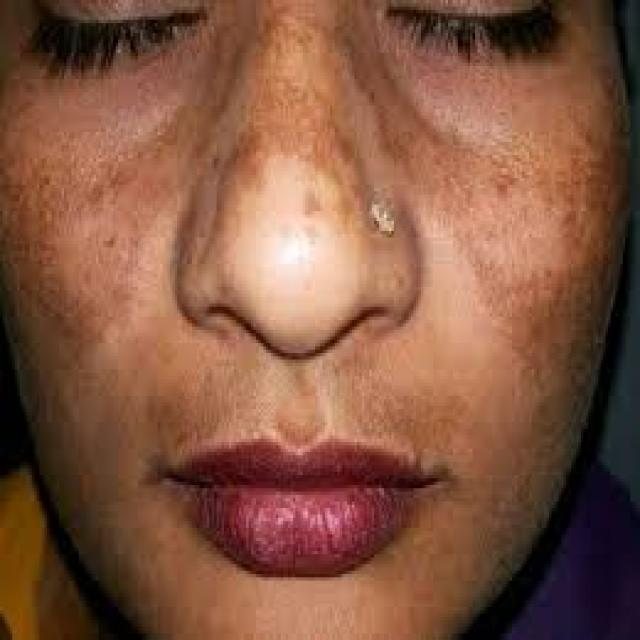pigmentation: (474, 204, 607, 408)
